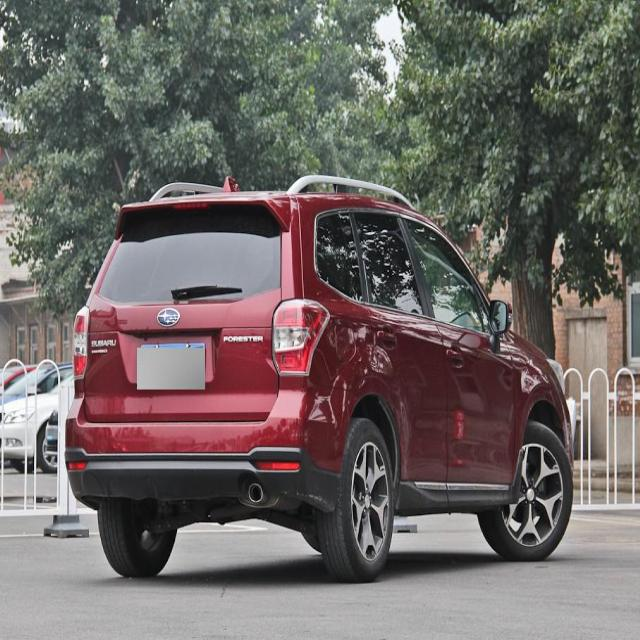back_glass: (95, 202, 281, 306)
back_left_side_light: (71, 302, 91, 383)
back_right_side_light: (271, 294, 330, 378)
door: (348, 208, 452, 499)
front_right_side_door: (400, 207, 517, 497)
front_right_side_mirror: (488, 298, 514, 338)
rear_bumper: (65, 374, 352, 505)
wheel: (488, 422, 573, 557), (324, 418, 394, 579), (98, 506, 178, 580)
